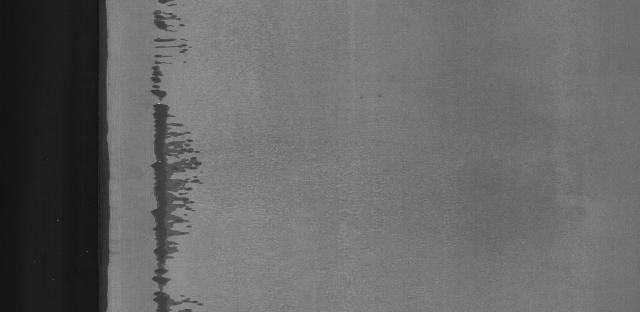oil_spot: (139, 0, 218, 310)
